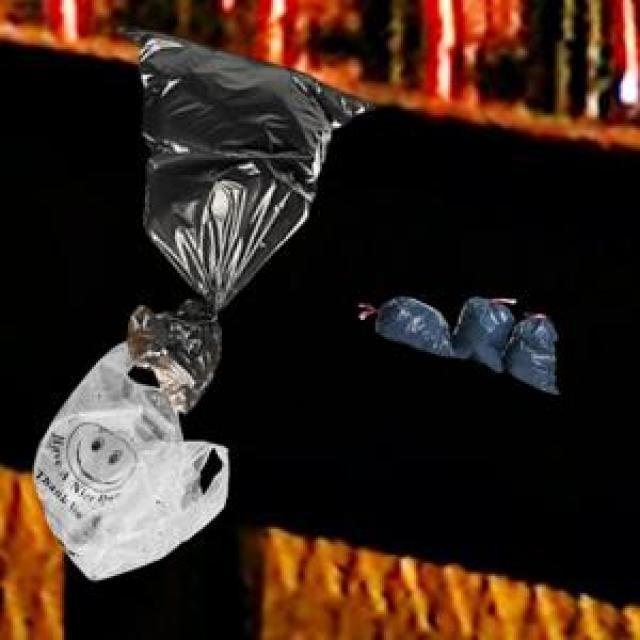miscellaneous trash: (115, 24, 371, 408), (371, 294, 553, 388)
